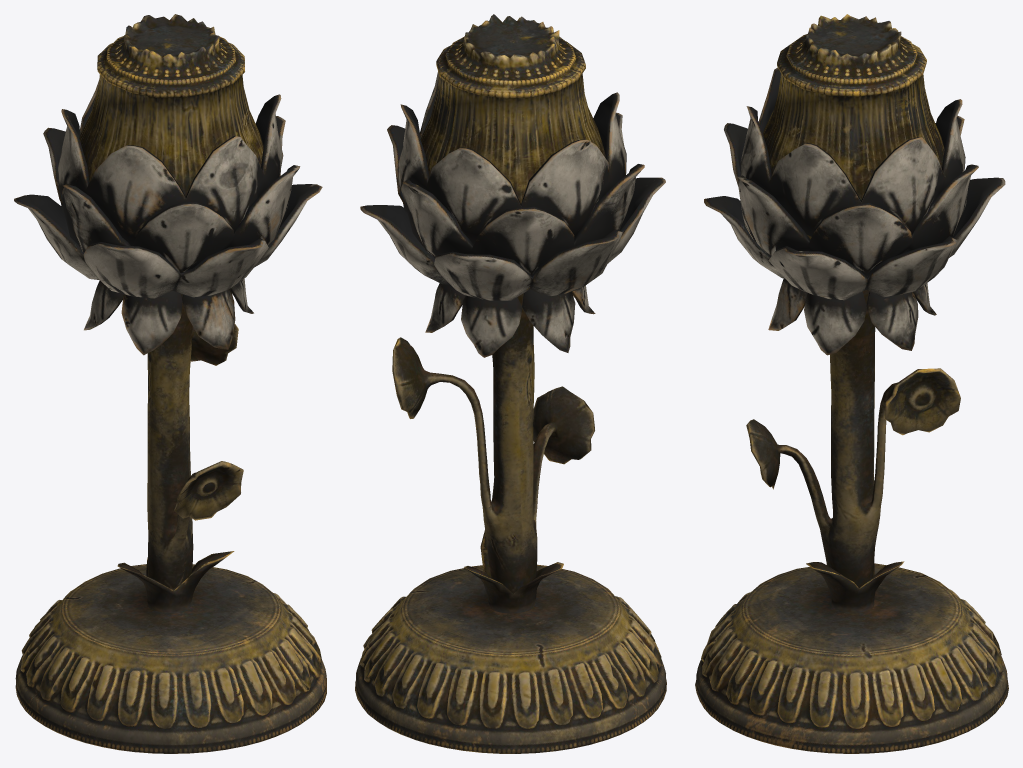
Rendered from OrientalLamp.fbx.
3 views of the same model, side by side, from view 1: azimuth 30°, elevation 25°; view 2: azimuth 150°, elevation 25°; view 3: azimuth 270°, elevation 25° (orthographic).
Visible parts, largest first — view 1: Chinese lotus lamp-Freepoly.org; view 2: Chinese lotus lamp-Freepoly.org; view 3: Chinese lotus lamp-Freepoly.org.
Boxes of the visible parts, <box> form: Chinese lotus lamp-Freepoly.org: <box>14,14,326,753</box>; Chinese lotus lamp-Freepoly.org: <box>355,14,666,753</box>; Chinese lotus lamp-Freepoly.org: <box>695,14,1008,753</box>.
Size of the model in its own units: 0.0899 by 0.2075 by 0.0899.
1 material, 1 textured.
